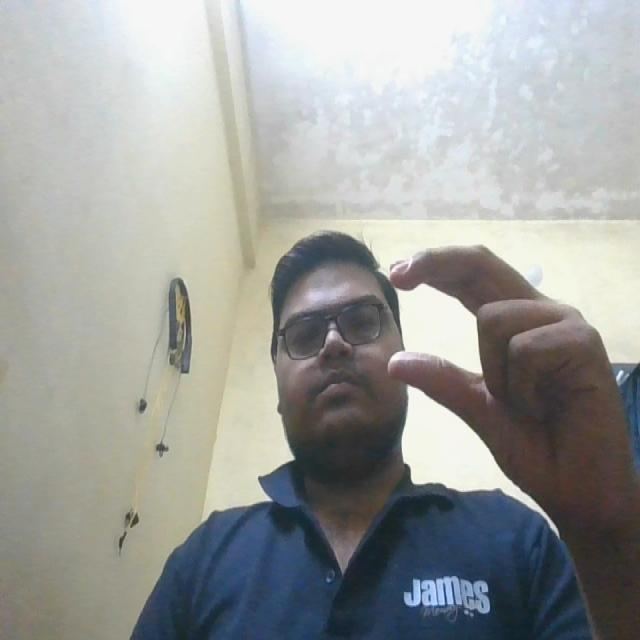No: (364, 210, 625, 538)
